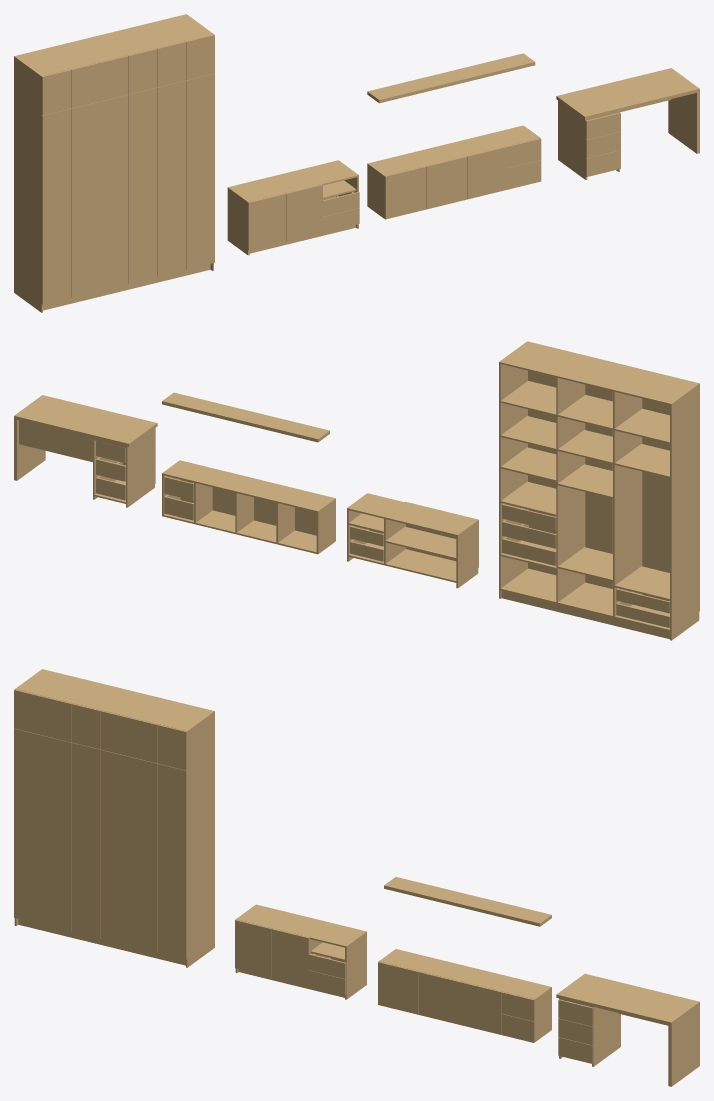
File: ayham.dae
The picture shows the model from 3 angles, top to bottom: view 1: azimuth 30°, elevation 25°; view 2: azimuth 150°, elevation 25°; view 3: azimuth 330°, elevation 25°; orthographic projection.
Visible parts, largest first — view 1: Armoire - Porte basse 2197x347 (×6), Armoire - Porte haute 447x347 (×6), Armoire - Côté 2750x580, Meuble TV - Porte 497x497 (×3), Armoire - Dessus 2062x580, Commode - Porte 557x448 (×2), Bureau - Plateau (2 × 19 = 38 mm) 1400x600, Meuble TV - Dessus 1862x360, Commode - Dessus 1312x430, Meuble TV - Étagère murale (2 × 19 = 38 mm) 1900x250, Bureau - Façade tiroir 417x214 (×3), Bureau - Caisson · côté 710x580 (+6 smaller); view 2: Armoire - Côté 2750x580 (×2), Armoire - Montant intérieur 2612x580 (×2), Armoire - Porte basse 2197x347 (×3), Armoire - Dessus 2062x580, Armoire - Étagère 672x560 (×4), Armoire - Étagère 674x560 (×3), Bureau - Plateau (2 × 19 = 38 mm) 1400x600, Meuble TV - Dessus 1862x360, Armoire - Dessous 2062x580, Armoire - Séparation caisson haut 674x580 (×2), Commode - Dessus 1312x430, Armoire - Tiroir · arrière 612x160 (×3) (+16 smaller); view 3: Armoire - Porte basse 2197x347 (×6), Armoire - Porte haute 447x347 (×6), Armoire - Côté 2750x580, Meuble TV - Porte 497x497 (×3), Armoire - Dessus 2062x580, Commode - Porte 557x448 (×2), Bureau - Plateau (2 × 19 = 38 mm) 1400x600, Meuble TV - Dessus 1862x360, Commode - Dessus 1312x430, Meuble TV - Étagère murale (2 × 19 = 38 mm) 1900x250, Bureau - Façade tiroir 417x214 (×3), Bureau - Pied panneau (2 × 19 = 38 mm) 710x600 (+6 smaller).
Boxes of the visible parts, x1,y1,x2,y2 form: Armoire - Porte basse 2197x347 (×6): (41,73,214,304); Armoire - Porte haute 447x347 (×6): (41,34,214,115); Armoire - Côté 2750x580: (14,56,42,312); Meuble TV - Porte 497x497 (×3): (384,146,508,219); Armoire - Dessus 2062x580: (16,14,212,75); Commode - Porte 557x448 (×2): (248,184,322,250); Bureau - Plateau (2 × 19 = 38 mm) 1400x600: (556,68,699,118); Meuble TV - Dessus 1862x360: (369,126,538,175); Commode - Dessus 1312x430: (230,160,357,201); Meuble TV - Étagère murale (2 × 19 = 38 mm) 1900x250: (367,53,535,101); Bureau - Façade tiroir 417x214 (×3): (585,112,620,176); Bureau - Caisson · côté 710x580: (558,100,587,179); Armoire - Côté 2750x580 (×2): (499,342,699,640); Armoire - Montant intérieur 2612x580 (×2): (556,377,642,616); Armoire - Porte basse 2197x347 (×3): (528,396,669,588); Armoire - Dessus 2062x580: (500,342,697,405); Armoire - Étagère 672x560 (×4): (557,430,669,581); Armoire - Étagère 674x560 (×3): (500,416,556,515); Bureau - Plateau (2 × 19 = 38 mm) 1400x600: (14,395,157,445); Meuble TV - Dessus 1862x360: (163,461,333,512); Armoire - Dessous 2062x580: (500,568,669,631); Armoire - Séparation caisson haut 674x580 (×2): (557,395,669,443); Commode - Dessus 1312x430: (348,493,476,536); Armoire - Tiroir · arrière 612x160 (×3): (503,504,554,565); Armoire - Porte basse 2197x347 (×6): (14,728,187,959); Armoire - Porte haute 447x347 (×6): (14,689,187,770); Armoire - Côté 2750x580: (186,711,214,967); Meuble TV - Porte 497x497 (×3): (378,961,501,1034); Armoire - Dessus 2062x580: (16,669,212,730); Commode - Porte 557x448 (×2): (235,919,309,985); Bureau - Plateau (2 × 19 = 38 mm) 1400x600: (556,973,699,1023); Meuble TV - Dessus 1862x360: (380,949,549,998); Commode - Dessus 1312x430: (237,905,364,947); Meuble TV - Étagère murale (2 × 19 = 38 mm) 1900x250: (384,877,551,924); Bureau - Façade tiroir 417x214 (×3): (558,999,593,1063); Bureau - Pied panneau (2 × 19 = 38 mm) 710x600: (670,1005,699,1086).
Bounding box in the file's own units: 8 × 0.6 × 2.75.
